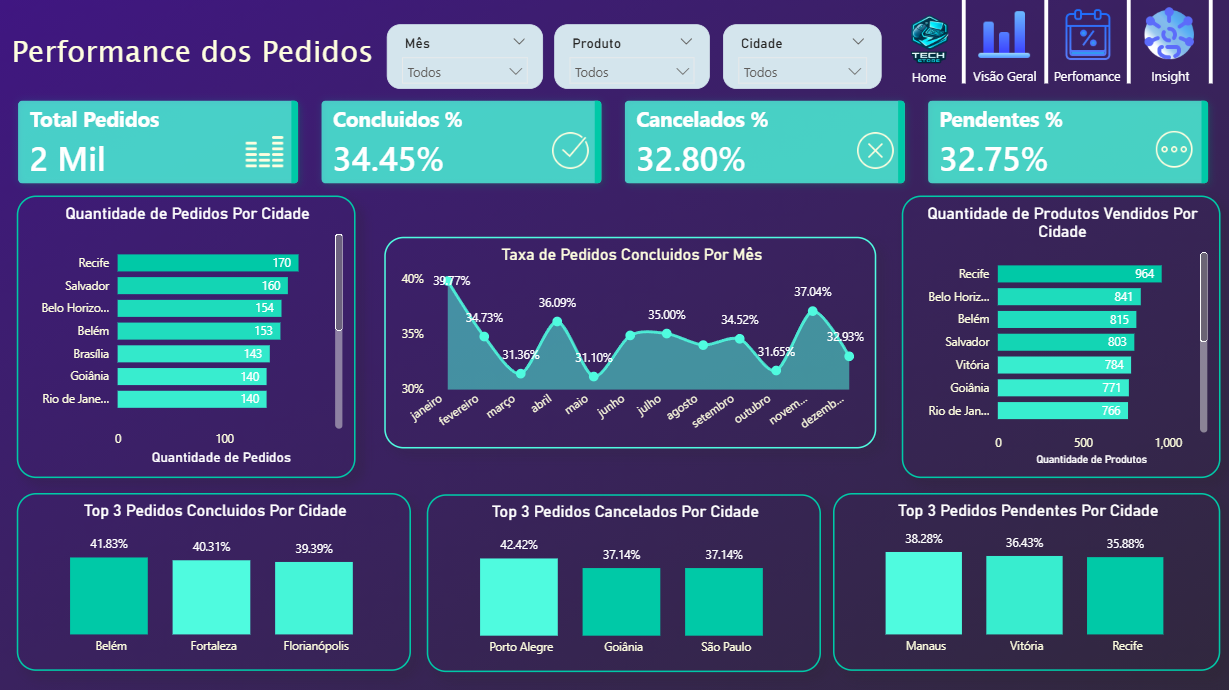

What the dashboard file says about the page in this screenshot:
{"tool":"powerbi","page":{"name":"Perfomance de Pedidos","canvas":[1280,720],"ordinal":2},"visuals":[{"type":"image","box":[778.4,0,379.7,89.2],"z":0,"group":"g1"},{"type":"shape","title":"Qualidade e Execução dos Pedidos","box":[0,15.5,404.2,83.1],"z":0},{"type":"group","id":"g1","title":"Grupo 3","box":[778.4,0,489.2,89.2],"z":1000},{"type":"image","box":[1013.5,0,64.9,75.7],"z":1000,"group":"g1"},{"type":"shape","box":[983.8,0,40.5,89.2],"z":2000,"group":"g1"},{"type":"barChart","title":"Quantidade de Pedidos Por Cidade","fields":{"Category":["dados_vendas_2000.cidade"],"Y":["Tabela.quantidade_vendas"]},"box":[18.9,205.4,352,293.2],"z":2000},{"type":"shape","box":[1068.9,0,40.5,89.2],"z":3000,"group":"g1"},{"type":"columnChart","title":"Top 3 Pedidos Concluidos Por Cidade","fields":{"Category":["dados_vendas_2000.cidade"],"Y":["Tabela.taxa_concluidos"]},"box":[18.9,514.9,409.5,185.1],"z":3000},{"type":"image","box":[1100,0,64.9,75.7],"z":4000,"group":"g1"},{"type":"barChart","title":"Quantidade de Produtos Vendidos Por Cidade","fields":{"Category":["dados_vendas_2000.cidade"],"Y":["Tabela.quantidade_vendas_produto"]},"box":[939.2,205.4,331.1,293.2],"z":4000},{"type":"shape","box":[1155.4,0,40.5,89.2],"z":5000,"group":"g1"},{"type":"columnChart","title":"Top 3 Pedidos Cancelados Por Cidade","fields":{"Category":["dados_vendas_2000.cidade"],"Y":["Tabela.taxa_cancelados"]},"box":[445.9,516.2,409.5,185.1],"z":5000},{"type":"columnChart","title":"Top 3 Pedidos Pendentes Por Cidade","fields":{"Category":["dados_vendas_2000.cidade"],"Y":["Tabela.taxa_pendente"]},"box":[867.6,514.9,402.7,185.1],"z":6000},{"type":"cardVisual","fields":{"Data":["Tabela.quantidade_vendas","Tabela.taxa_concluidos","Tabela.taxa_cancelados","Tabela.taxa_pendente"]},"box":[0,85.1,1278.4,128.4],"z":7000},{"type":"shape","box":[938,64.8,59.2,33.8],"z":8000},{"type":"image","box":[1185.4,0,64.8,76.1],"z":9000,"group":"g1"},{"type":"group","id":"g2","title":"Grupo 1","box":[404.1,27,535.1,67.6],"z":9000},{"type":"slicer","fields":{"Values":["dados_vendas_2000.data.Variation.Hierarquia de datas.Mês"]},"box":[404.1,27,162.3,67.6],"z":9000,"group":"g3"},{"type":"shape","box":[1091.5,57.7,81.7,46.5],"z":10000},{"type":"shape","box":[1254.1,0,13.5,89.2],"z":11000,"group":"g1"},{"type":"lineChart","title":"Taxa de Pedidos Concluidos Por Mês","fields":{"Y":["Tabela.taxa_concluidos"],"Category":["dados_vendas_2000.data.Variation.Hierarquia de datas.Mês"]},"box":[401.4,248.6,511.4,220],"z":11000},{"type":"shape","box":[1177.5,57.7,80.3,46.5],"z":12000},{"type":"slicer","fields":{"Values":["dados_vendas_2000.cidade"]},"box":[752.9,27,165,66.8],"z":13000,"group":"g3"},{"type":"image","box":[252.9,125.7,47.1,65.7],"z":13000},{"type":"slicer","fields":{"Values":["dados_vendas_2000.produto"]},"box":[577.6,27,161.6,66.8],"z":14000,"group":"g3"},{"type":"image","box":[567.1,137.1,54.3,41.4],"z":14000},{"type":"group","id":"g3","title":"Grupo 2","box":[404.1,27,535.1,67.6],"z":14002,"group":"g2"},{"type":"image","box":[884.3,137.1,54.3,41.4],"z":15000},{"type":"image","box":[1194.3,135.7,54.3,41.4],"z":16000},{"type":"shape","box":[1005.6,57.7,81.7,46.5],"z":17000}]}

Visuals, with their boxes in screenshot pixels (x1, y1, x2, y2), scaled from the page's 1280x720 canvas onto the 1229x690 screenshot:
image: <region>747, 0, 1112, 85</region>
"Qualidade e Execução dos Pedidos" shape: <region>0, 15, 388, 94</region>
"Grupo 3" group: <region>747, 0, 1217, 85</region>
image: <region>973, 0, 1035, 73</region>
shape: <region>945, 0, 983, 85</region>
"Quantidade de Pedidos Por Cidade" barChart: <region>18, 197, 356, 478</region>
shape: <region>1026, 0, 1065, 85</region>
"Top 3 Pedidos Concluidos Por Cidade" columnChart: <region>18, 493, 411, 671</region>
image: <region>1056, 0, 1118, 73</region>
"Quantidade de Produtos Vendidos Por Cidade" barChart: <region>902, 197, 1220, 478</region>
shape: <region>1109, 0, 1148, 85</region>
"Top 3 Pedidos Cancelados Por Cidade" columnChart: <region>428, 495, 821, 672</region>
"Top 3 Pedidos Pendentes Por Cidade" columnChart: <region>833, 493, 1220, 671</region>
cardVisual - Tabela.quantidade_vendas x Tabela.taxa_concluidos: <region>0, 82, 1227, 205</region>
shape: <region>901, 62, 957, 94</region>
image: <region>1138, 0, 1200, 73</region>
"Grupo 1" group: <region>388, 26, 902, 91</region>
slicer - dados_vendas_2000.data.Variation.Hierarquia de datas.Mês: <region>388, 26, 544, 91</region>
shape: <region>1048, 55, 1126, 100</region>
shape: <region>1204, 0, 1217, 85</region>
"Taxa de Pedidos Concluidos Por Mês" lineChart: <region>385, 238, 876, 449</region>
shape: <region>1131, 55, 1208, 100</region>
slicer - dados_vendas_2000.cidade: <region>723, 26, 881, 90</region>
image: <region>243, 120, 288, 183</region>
slicer - dados_vendas_2000.produto: <region>555, 26, 710, 90</region>
image: <region>545, 131, 597, 171</region>
"Grupo 2" group: <region>388, 26, 902, 91</region>
image: <region>849, 131, 901, 171</region>
image: <region>1147, 130, 1199, 170</region>
shape: <region>966, 55, 1044, 100</region>
